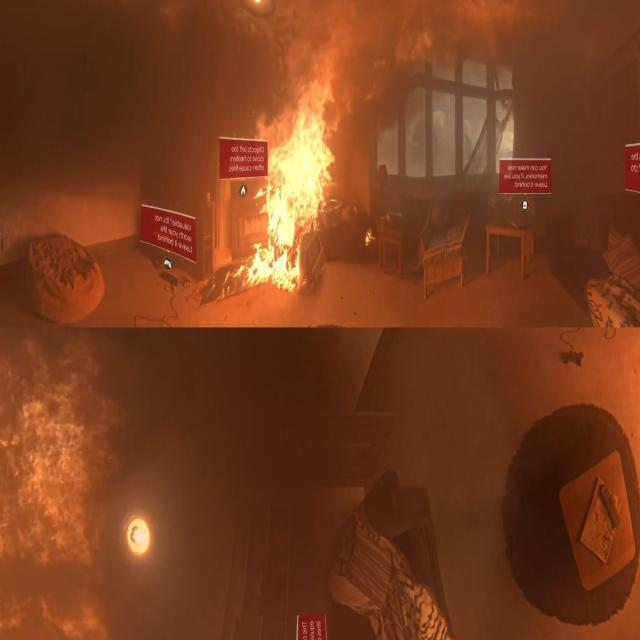smoke: (232, 76, 340, 292)
